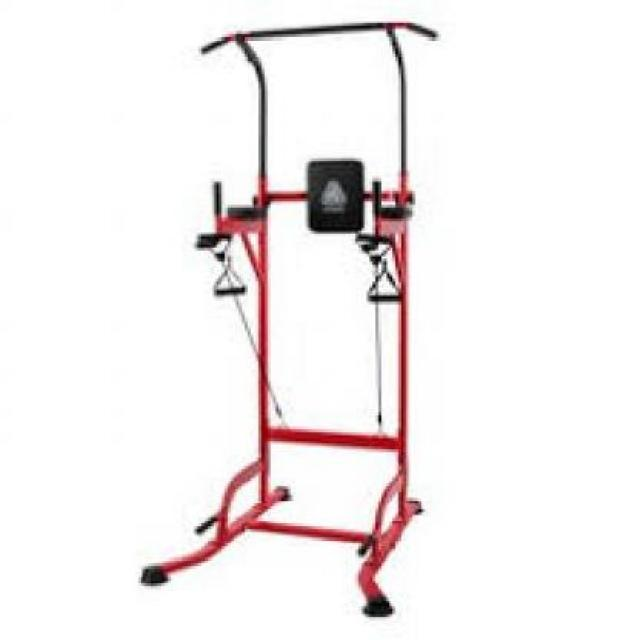chinning dipping: (142, 18, 438, 617)
